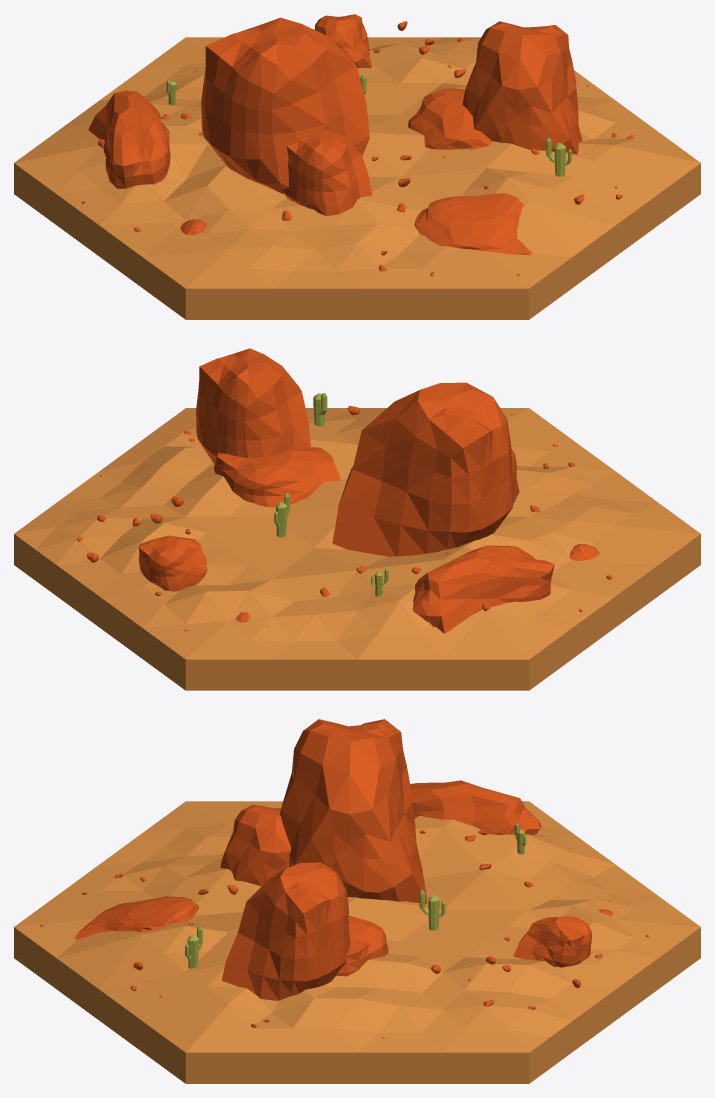
File: temperateDesert.glb
3 views of the same model, one above another, from view 1: azimuth 30°, elevation 25°; view 2: azimuth 150°, elevation 25°; view 3: azimuth 270°, elevation 25° (orthographic).
Visible parts, largest first — view 1: land, cliffs, rokcs, cactus; view 2: land, cliffs, rokcs, cactus; view 3: land, cliffs, cactus, rokcs.
Part boxes in pixels (x1,y1,x2,y2): land: (14,37,700,319); cliffs: (88,14,582,254); rokcs: (81,21,633,276); cactus: (166,74,571,176); land: (14,408,700,690); cliffs: (138,348,554,633); rokcs: (76,405,612,631); cactus: (274,393,388,596); land: (14,801,700,1083); cliffs: (74,719,591,1000); cactus: (185,823,526,968); rokcs: (40,830,649,1038).
Bounding box in the file's own units: 1.73 × 0.6038 × 2.
